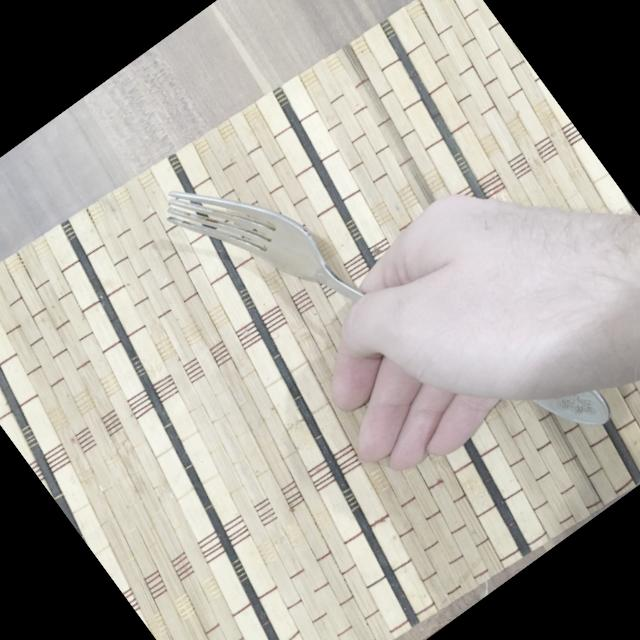fork: (152, 57, 618, 566)
